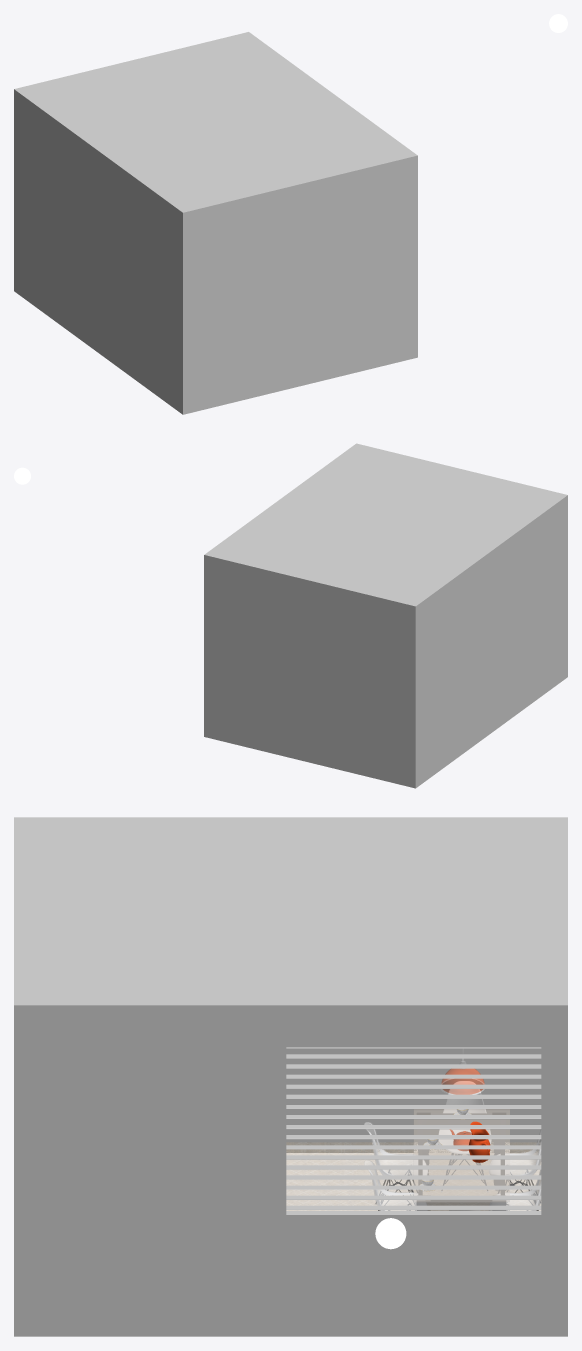
File: breakfast_room_new.glb
The picture shows the model from 3 angles, top to bottom: view 1: azimuth 30°, elevation 25°; view 2: azimuth 150°, elevation 25°; view 3: azimuth 270°, elevation 25°; orthographic projection. The views are drawn at different scales.
Visible parts, largest first — view 1: breakfast_room_Wall_South, breakfast_room_Wall_West, breakfast_room_Ceiling, breakfast_room_Wall_East, breakfast_room_Wall_North; view 2: breakfast_room_Wall_North, breakfast_room_Wall_West, breakfast_room_Ceiling, breakfast_room_Wall_East, breakfast_room_Wall_South; view 3: breakfast_room_Wall_East, breakfast_room_Ceiling, Blinds_breakfast_room, breakfast_room_Wall_West, breakfast_room_Floor, tabletop_breakfast_room_Interior.069, Chair_seats_and_light_fixture_breakfast_room_Interior.004, Table_Legs_breakfast_room_Interior.003, breakfast_room_Wall_North, breakfast_room_Wall_South, Sphere, Light_shades_breakfast_room_Interior.010.
Boxes of the visible parts, left/top/right/bottom form: breakfast_room_Wall_South: left=185, top=154, right=412, bottom=413; breakfast_room_Wall_West: left=14, top=88, right=188, bottom=414; breakfast_room_Ceiling: left=23, top=35, right=408, bottom=209; breakfast_room_Wall_East: left=244, top=32, right=417, bottom=358; breakfast_room_Wall_North: left=19, top=33, right=245, bottom=89; breakfast_room_Wall_North: left=209, top=554, right=412, bottom=787; breakfast_room_Wall_West: left=411, top=494, right=567, bottom=788; breakfast_room_Ceiling: left=212, top=446, right=559, bottom=603; breakfast_room_Wall_East: left=204, top=443, right=360, bottom=737; breakfast_room_Wall_South: left=359, top=444, right=562, bottom=495; breakfast_room_Wall_East: left=14, top=1001, right=567, bottom=1336; breakfast_room_Ceiling: left=24, top=821, right=557, bottom=1000; Blinds_breakfast_room: left=286, top=1047, right=541, bottom=1209; breakfast_room_Wall_West: left=14, top=817, right=567, bottom=1152; breakfast_room_Floor: left=286, top=1142, right=540, bottom=1210; tabletop_breakfast_room_Interior.069: left=414, top=1109, right=509, bottom=1201; Chair_seats_and_light_fixture_breakfast_room_Interior.004: left=364, top=1049, right=541, bottom=1210; Table_Legs_breakfast_room_Interior.003: left=417, top=1113, right=505, bottom=1210; breakfast_room_Wall_North: left=558, top=821, right=567, bottom=1000; breakfast_room_Wall_South: left=14, top=821, right=23, bottom=1000; Sphere: left=375, top=1218, right=406, bottom=1249; Light_shades_breakfast_room_Interior.010: left=441, top=1068, right=484, bottom=1094.
Bounding box in the file's own units: 25.44 × 9.85 × 14.93.
17 materials, 2 textured.
